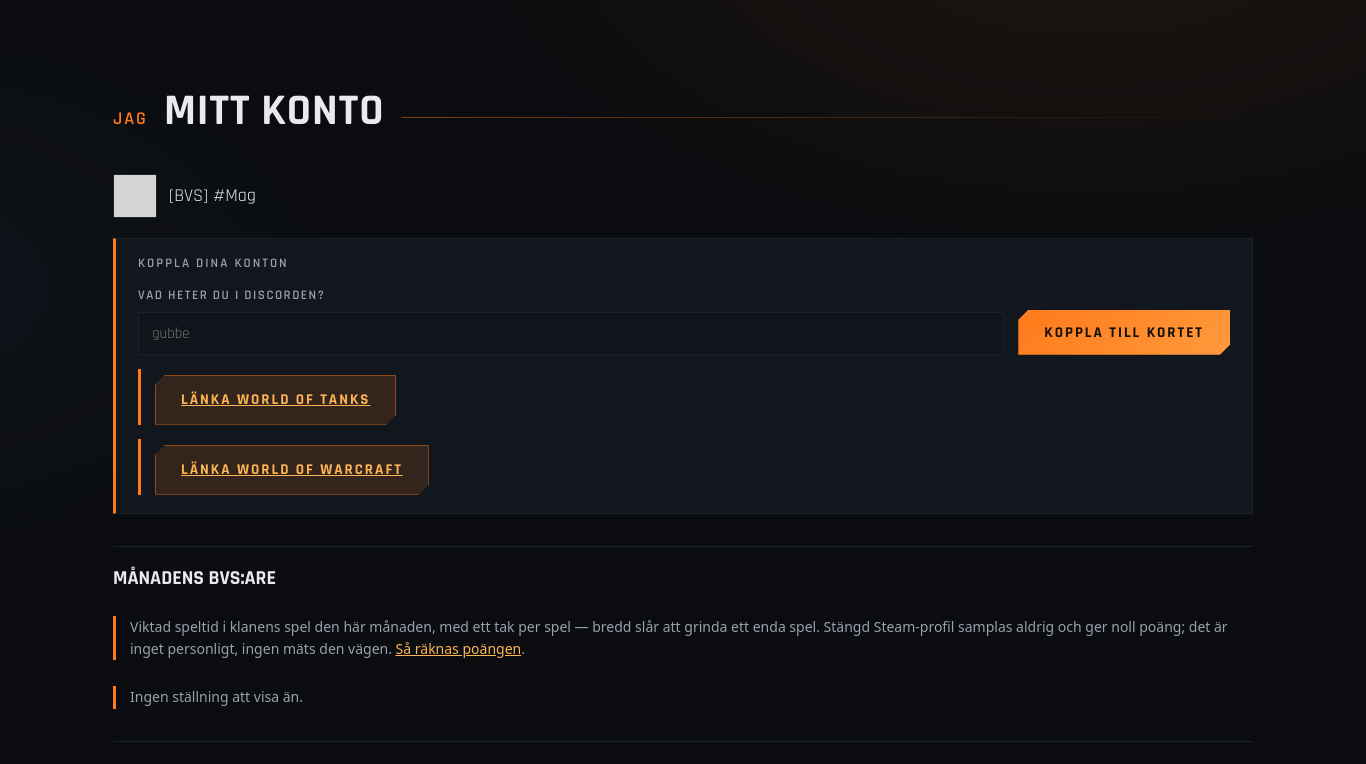
Test: linking a Discord name › saves the name and refreshes so the card updates
The width and height of the screenshot is (1366, 764).
Type "magge" into the field labelled "Vad heter du i Discorden?". click: point(571, 333)
box: [138,312,1004,355]
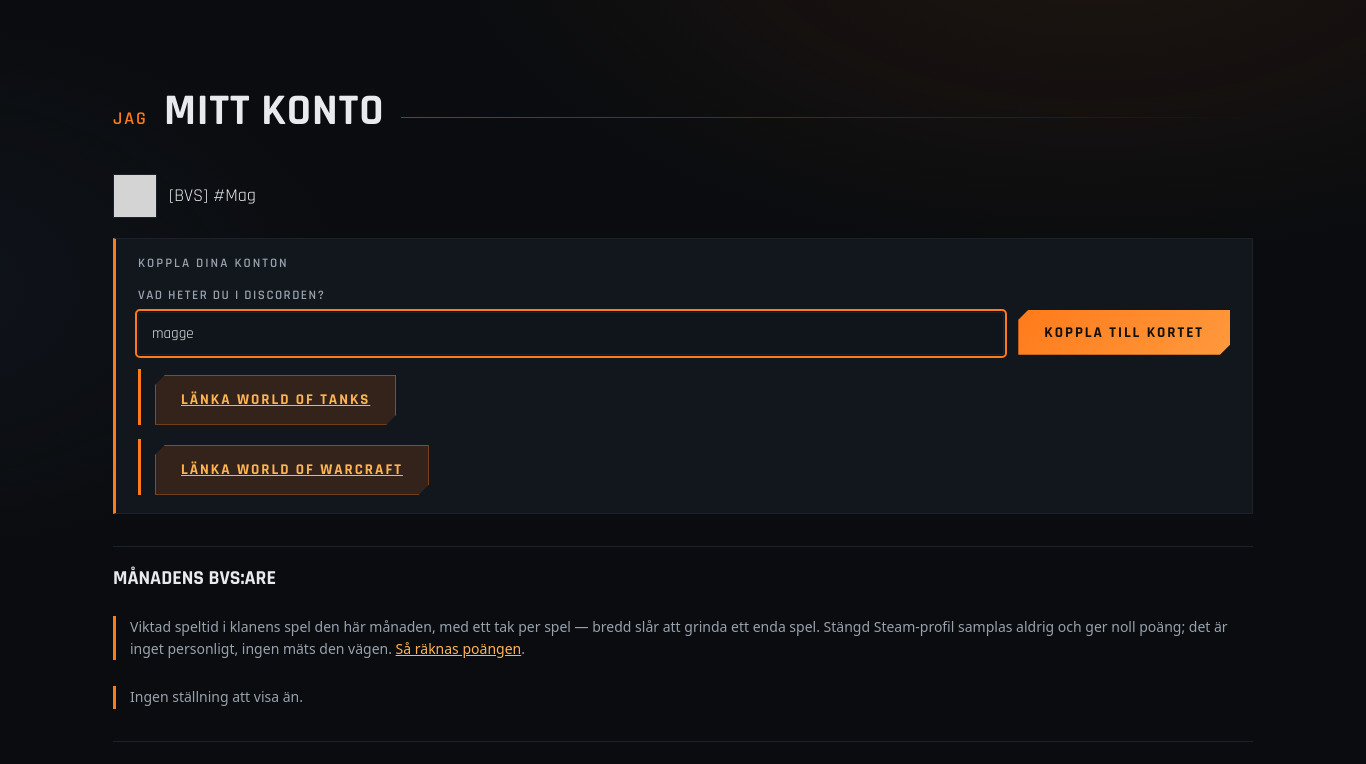
Click the button "Koppla till kortet". click: point(1124, 332)
box: [1018,310,1230,355]
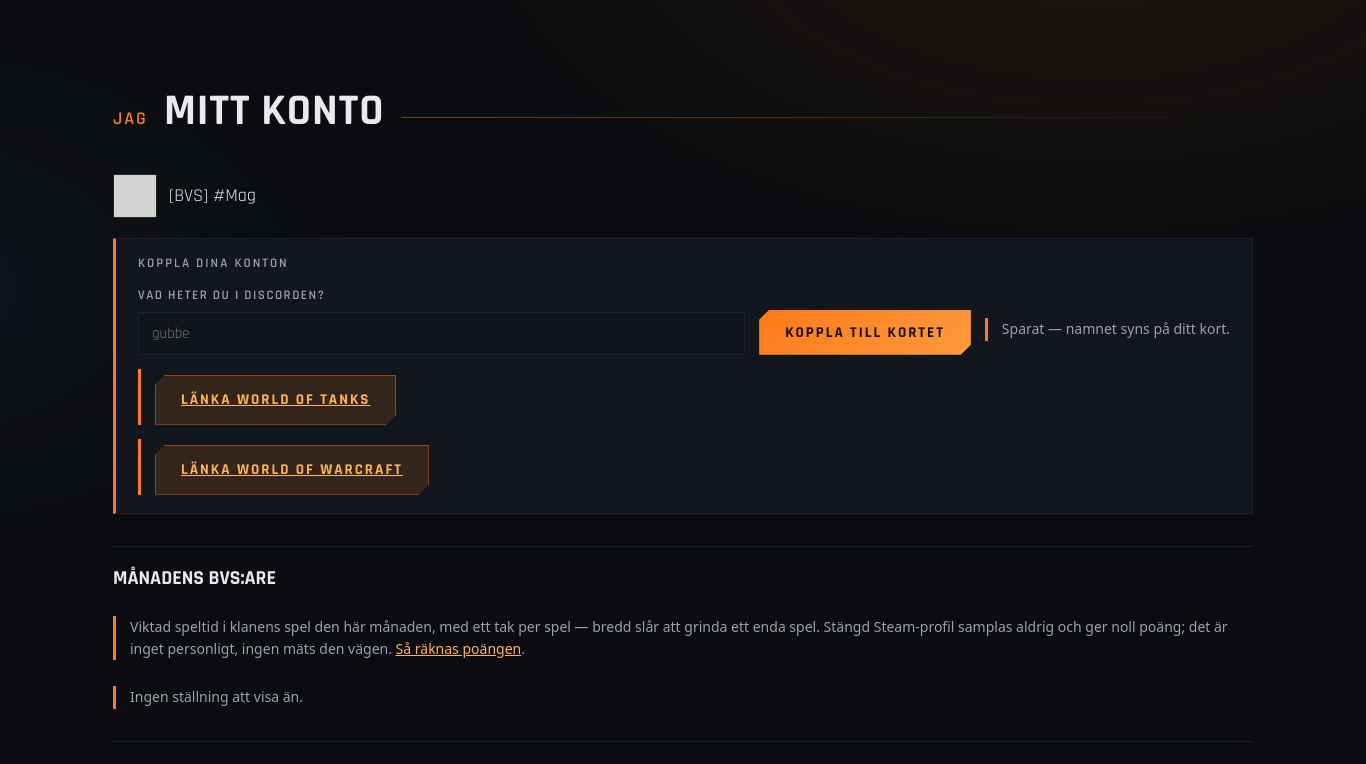
Check: the text "Sparat — namnet syns på ditt kort." is shown, box [985,318,1230,341]
